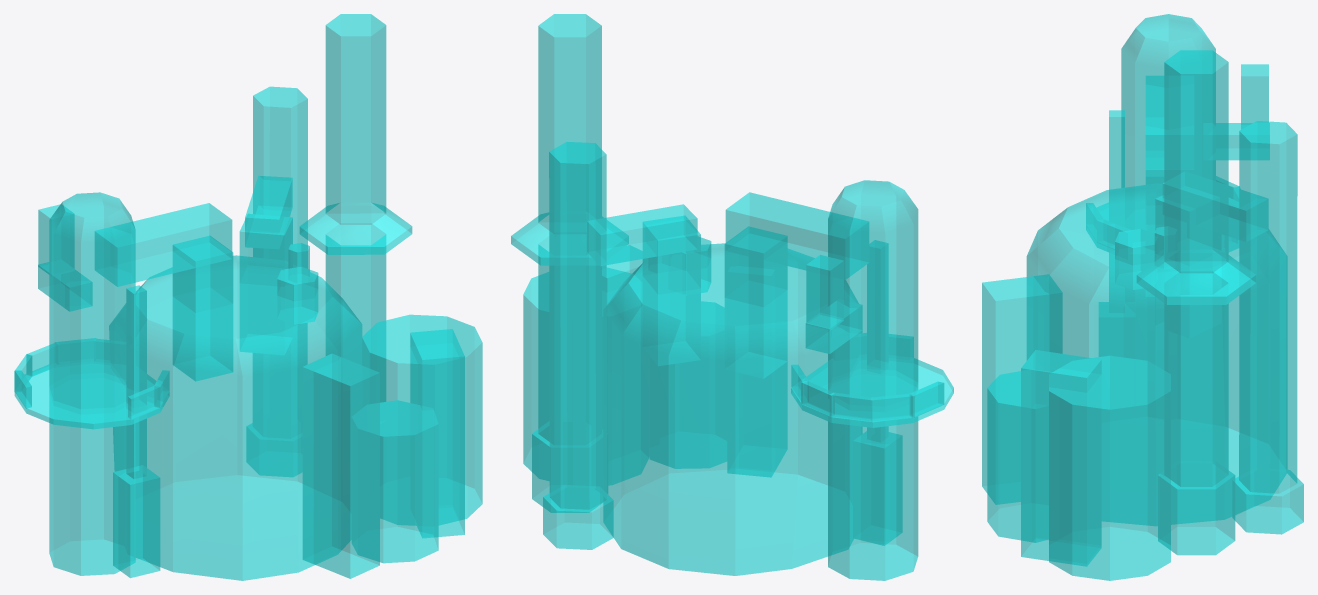
The model's file is SM_Bld_Refinery_01_Collision.fbx.
The picture shows the model from 3 angles, left to right: view 1: azimuth 30°, elevation 25°; view 2: azimuth 150°, elevation 25°; view 3: azimuth 270°, elevation 25°; orthographic projection. The views are drawn at different scales.
Visible parts, largest first — view 1: SM_Bld_Refinery_01_Collision; view 2: SM_Bld_Refinery_01_Collision; view 3: SM_Bld_Refinery_01_Collision.
Part boxes in pixels (bbox=[...]): SM_Bld_Refinery_01_Collision: bbox=[14, 14, 482, 580]; SM_Bld_Refinery_01_Collision: bbox=[511, 14, 953, 580]; SM_Bld_Refinery_01_Collision: bbox=[982, 14, 1303, 580].
Bounding box in the file's own units: 1755 × 1810 × 1097.
